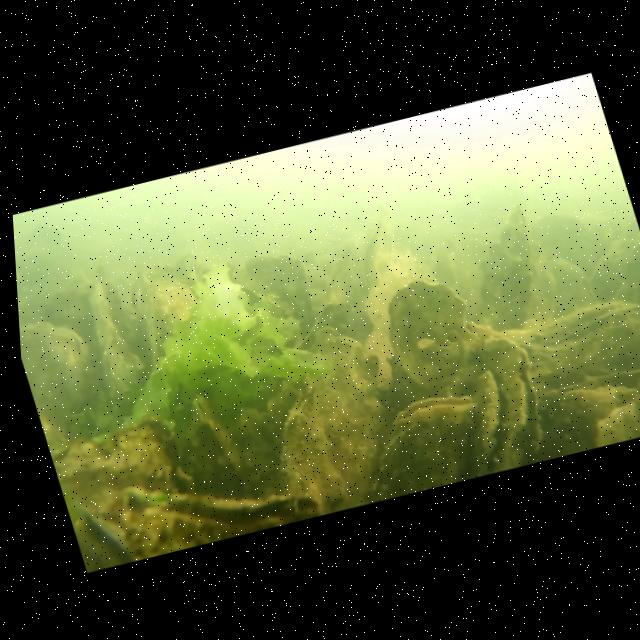Oyster-Closed: (493, 291, 640, 396), (447, 201, 558, 340), (18, 312, 112, 440), (175, 386, 253, 498), (243, 242, 322, 338)
Oyster-Indeterminate: (238, 313, 420, 522), (371, 269, 493, 405), (544, 367, 640, 456), (446, 368, 522, 478), (138, 256, 212, 352)
Oyster-Open: (45, 409, 214, 572), (107, 444, 322, 563), (345, 385, 498, 503), (73, 261, 189, 414), (458, 329, 560, 472)
